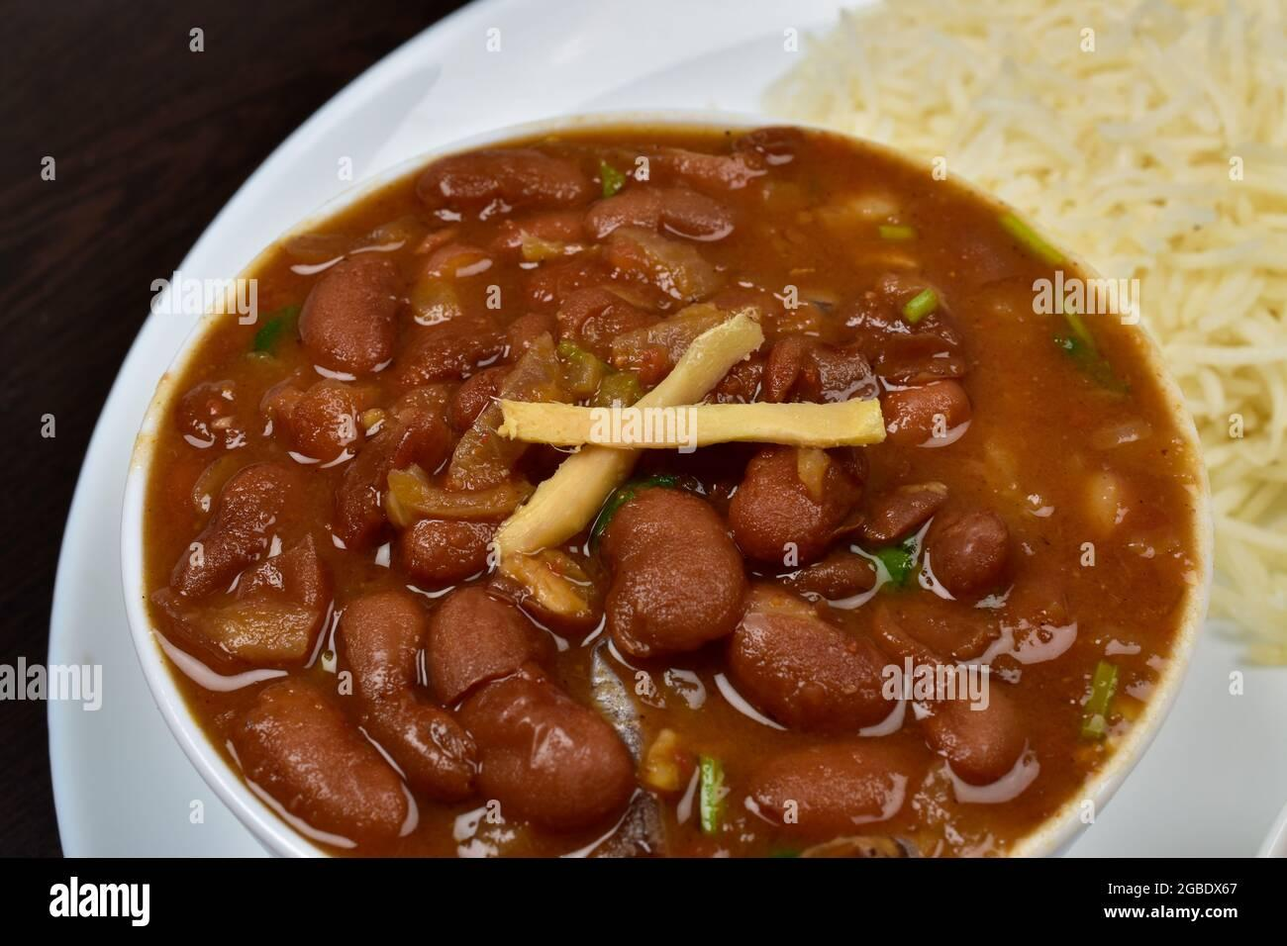rajma: (230, 173, 1124, 858)
